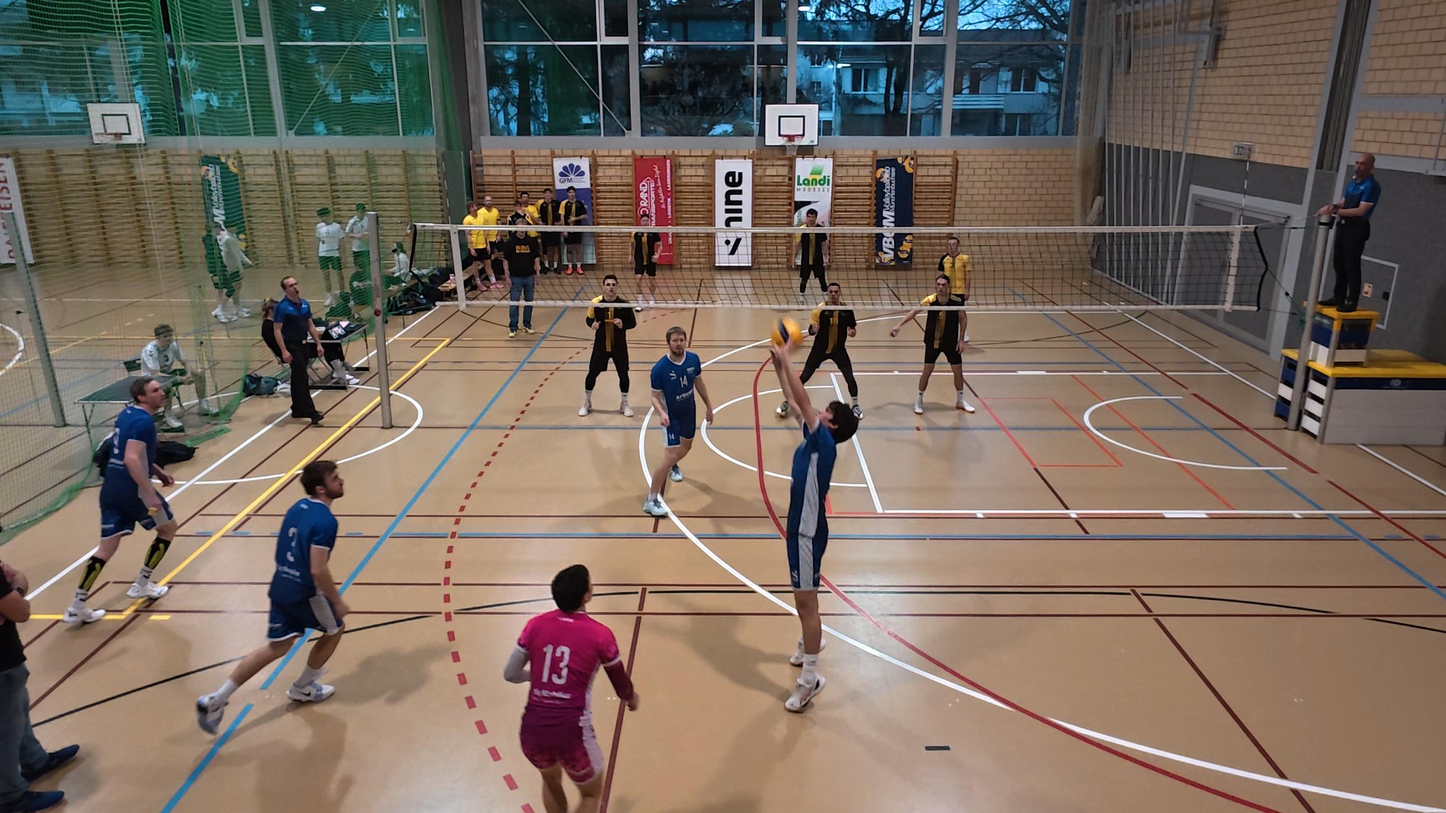Player: (196, 458, 349, 733), (505, 565, 637, 812), (63, 377, 176, 624), (643, 326, 713, 518), (889, 274, 975, 414), (779, 282, 863, 420), (579, 275, 637, 416), (792, 205, 830, 303), (940, 235, 972, 344), (629, 211, 661, 309)
Set: (763, 334, 862, 716)
ball: (772, 317, 809, 350)
